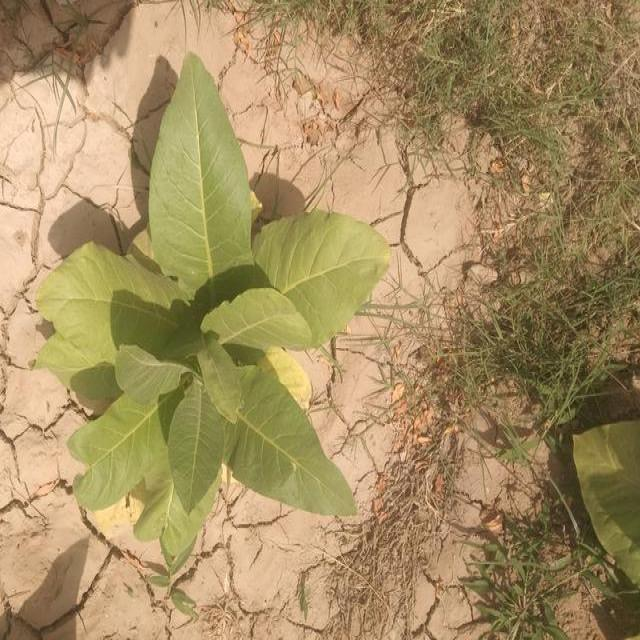crop: (39, 67, 384, 569)
